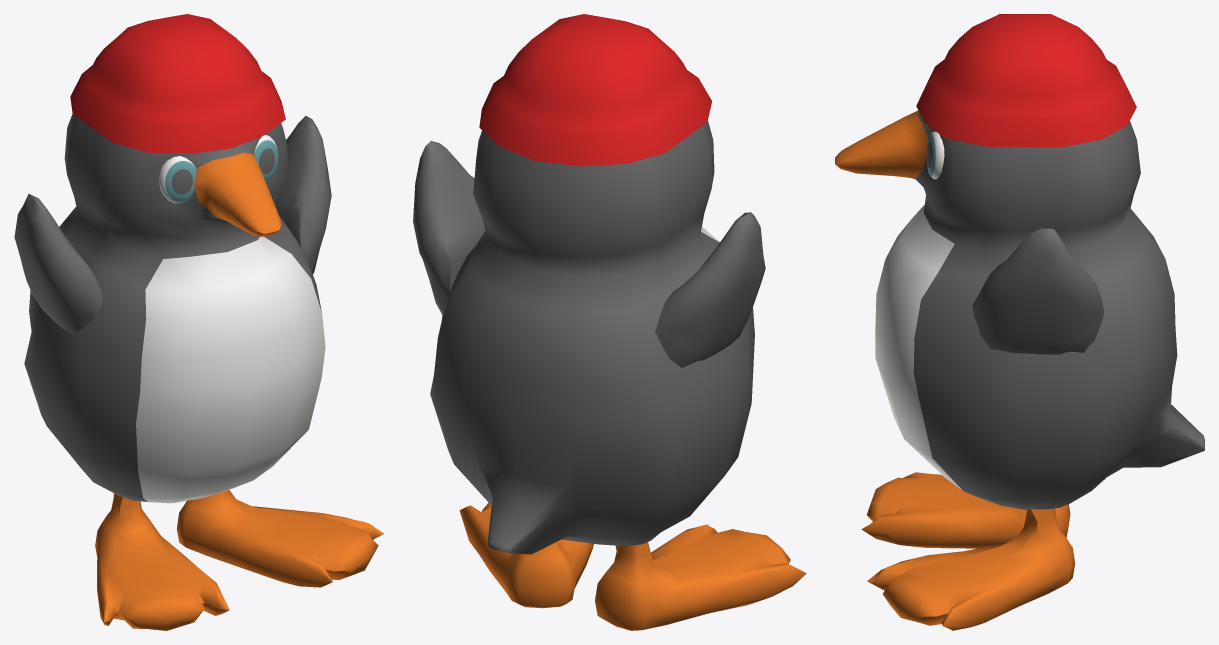
The model's file is Penguin_1_231109.glb.
The picture shows the model from 3 angles, left to right: view 1: azimuth 30°, elevation 25°; view 2: azimuth 150°, elevation 25°; view 3: azimuth 270°, elevation 25°; orthographic projection. The views are drawn at different scales.
Visible parts, largest first — view 1: Penguin_1; view 2: Penguin_1; view 3: Penguin_1.
Part boxes in pixels (x1,y1,x2,y2): Penguin_1: (14, 14, 383, 630); Penguin_1: (413, 14, 806, 630); Penguin_1: (835, 14, 1204, 630).
Size of the model in its own units: 0.7906 by 1.27 by 0.7969.
1 material, 1 textured.
